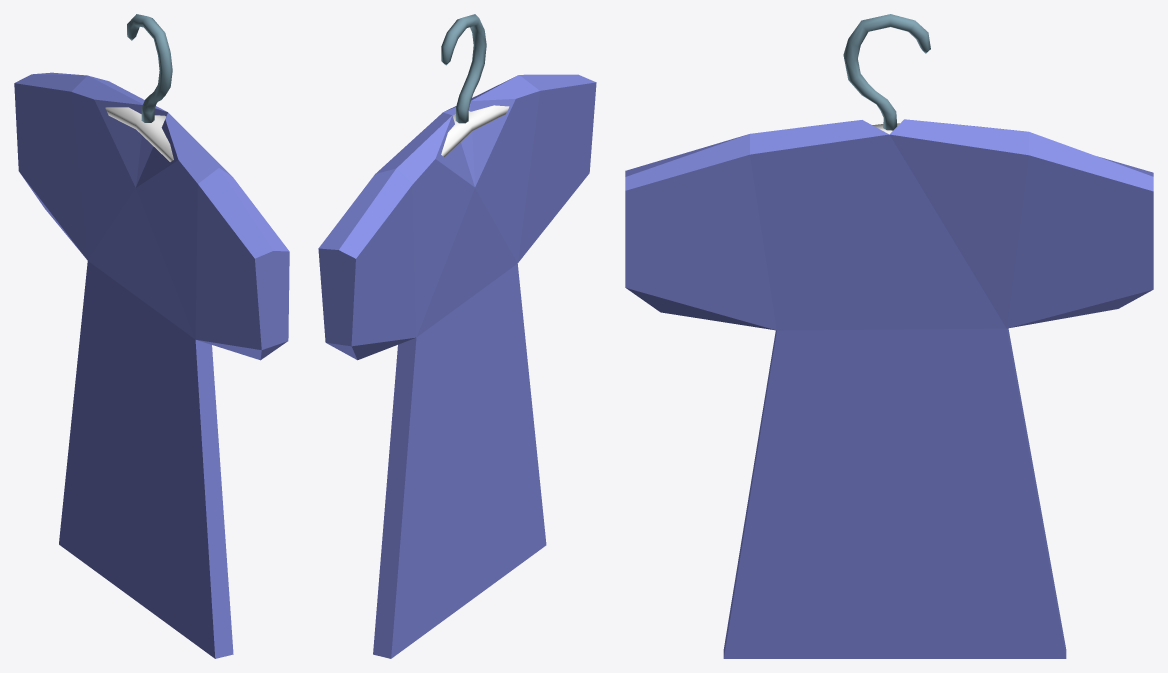
File: shirt.fbx
3 renders of one model, left to right at view 1: azimuth 30°, elevation 25°; view 2: azimuth 150°, elevation 25°; view 3: azimuth 270°, elevation 25°, orthographic. The views are drawn at different scales.
Visible parts, largest first — view 1: Cube.006, Cube; view 2: Cube.006, Cube; view 3: Cube.006, Cube.
Boxes of the visible parts, <box> form: Cube.006: <box>14,72,289,658</box>; Cube: <box>105,14,173,161</box>; Cube.006: <box>318,74,596,658</box>; Cube: <box>441,14,509,157</box>; Cube.006: <box>625,119,1153,658</box>; Cube: <box>843,14,930,134</box>.
Size of the model in its own units: 17.93 by 259 by 194.
